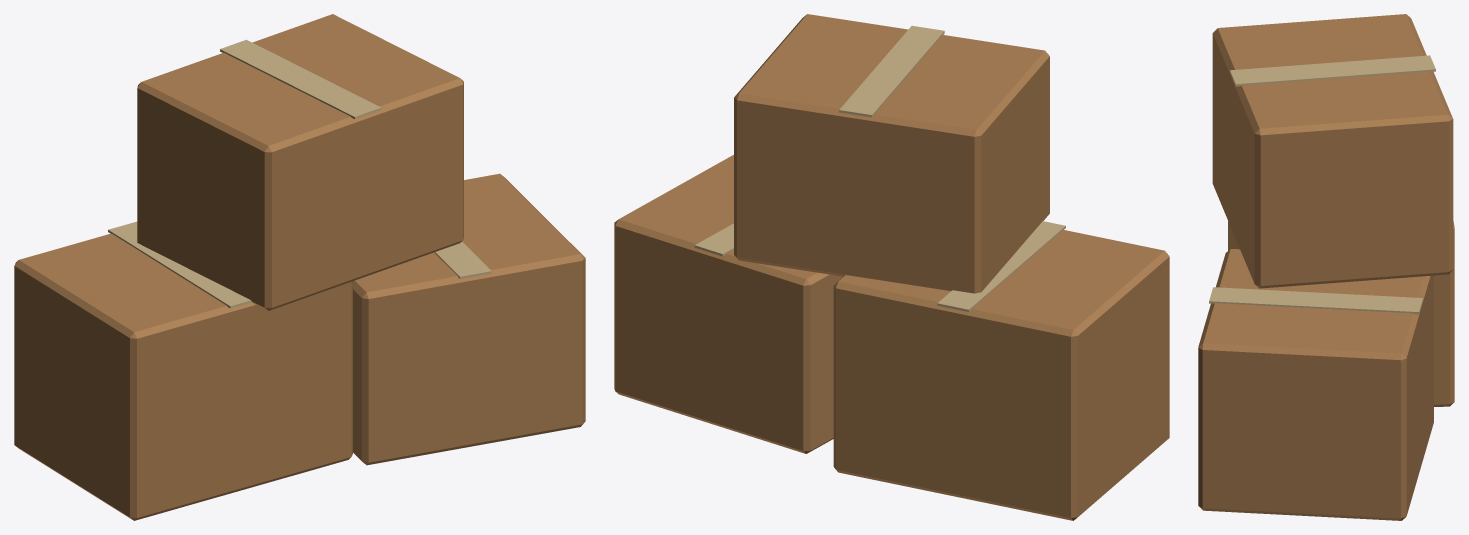
Rendered from boxes.glb.
3 renders of one model, left to right at view 1: azimuth 30°, elevation 25°; view 2: azimuth 150°, elevation 25°; view 3: azimuth 270°, elevation 25°, orthographic. The views are drawn at different scales.
Parts seen in each view (by area): view 1: boxes; view 2: boxes; view 3: boxes.
Boxes of the visible parts, <box> form: boxes: <box>14,14,585,520</box>; boxes: <box>614,14,1169,520</box>; boxes: <box>1198,14,1454,520</box>.
Bounding box in the file's own units: 1.26 × 0.894 × 0.611.
